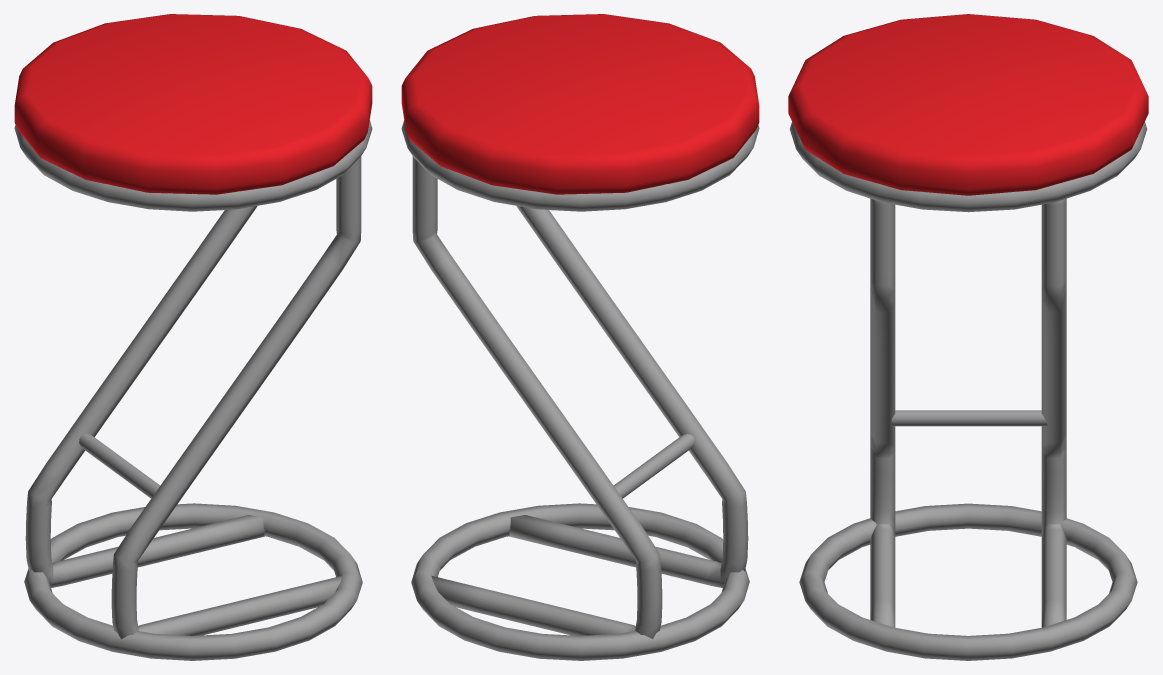
The model's file is Bar Chair06.fbx.
3 views of the same model, side by side, from view 1: azimuth 30°, elevation 25°; view 2: azimuth 150°, elevation 25°; view 3: azimuth 270°, elevation 25° (orthographic).
Parts seen in each view (by area): view 1: Bar Chair06; view 2: Bar Chair06; view 3: Bar Chair06.
Part boxes in pixels (x1,y1,x2,y2): Bar Chair06: [14, 14, 372, 660]; Bar Chair06: [401, 14, 759, 660]; Bar Chair06: [788, 14, 1148, 660].
Bounding box in the file's own units: 0.2651 × 0.2651 × 0.4117.
